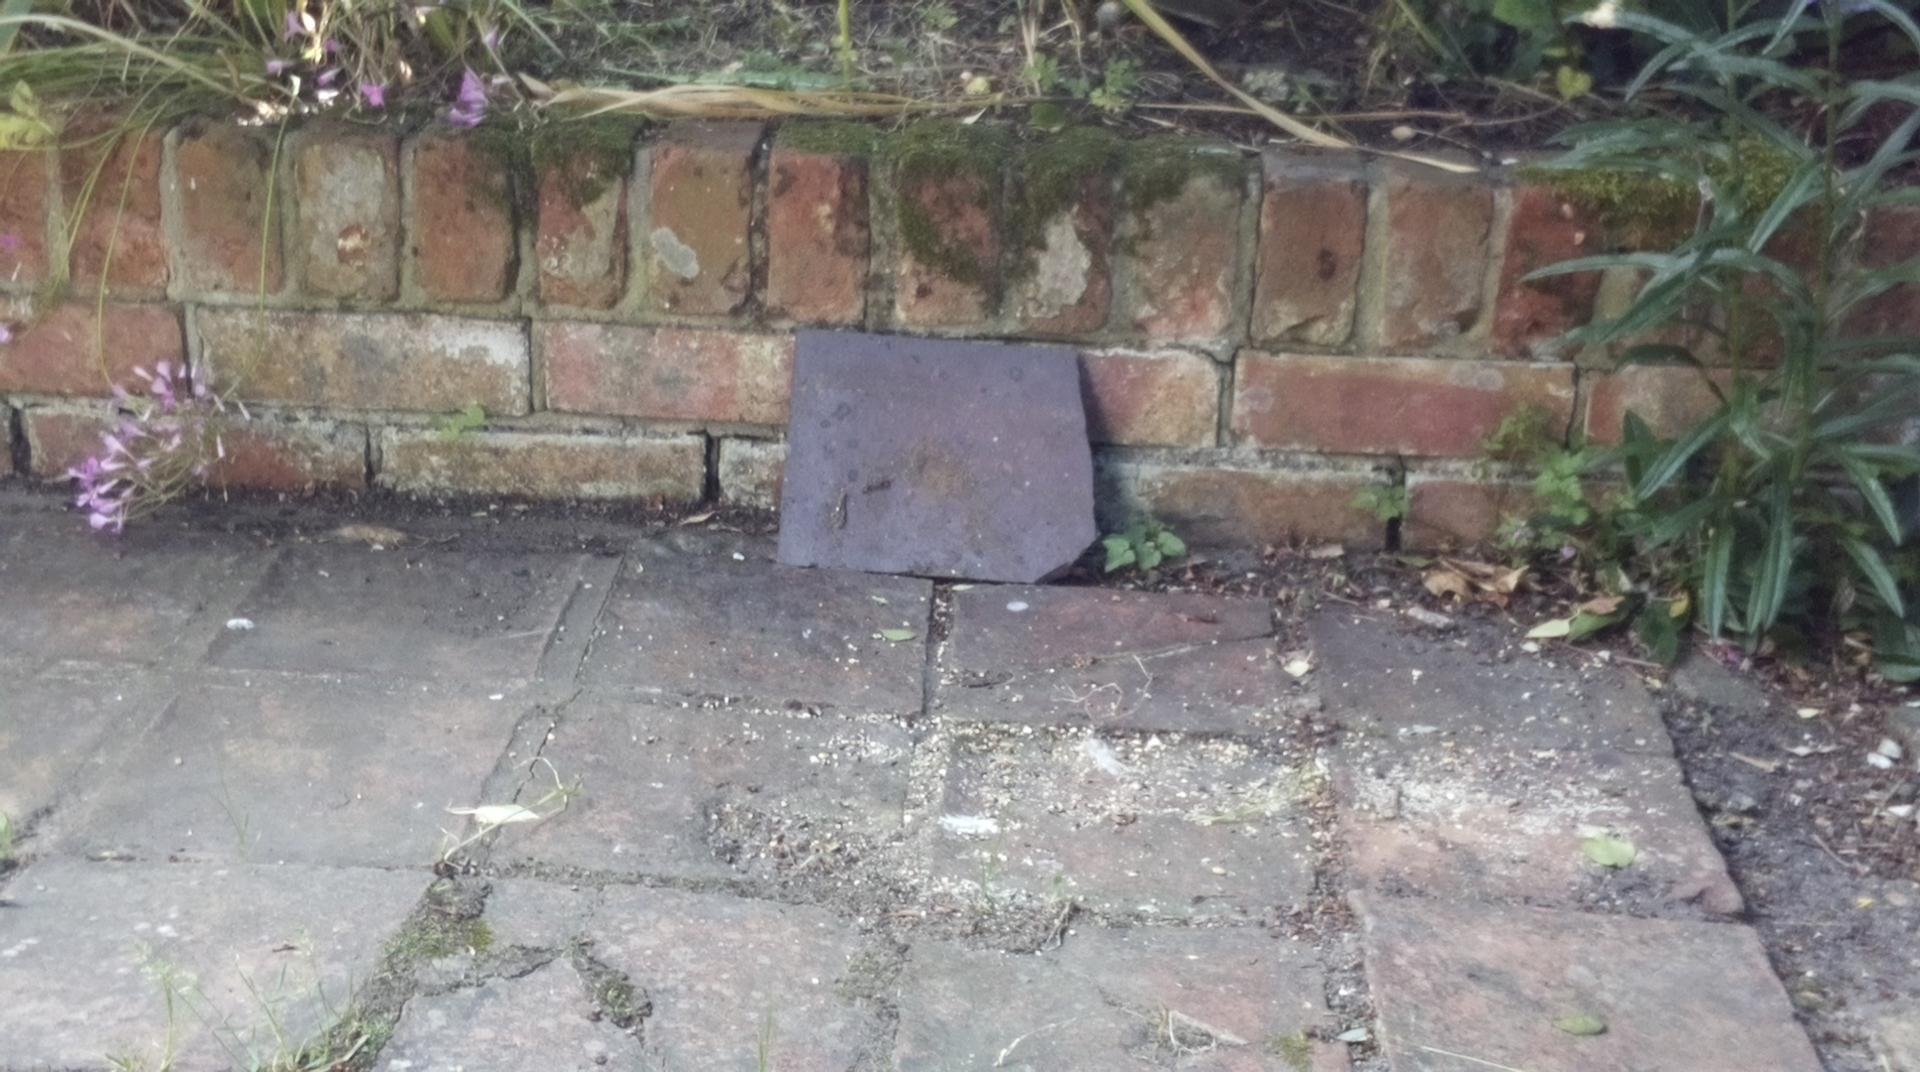unclassified: (1060, 1, 1888, 185)
